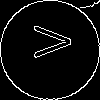V: (25, 25, 71, 58)
